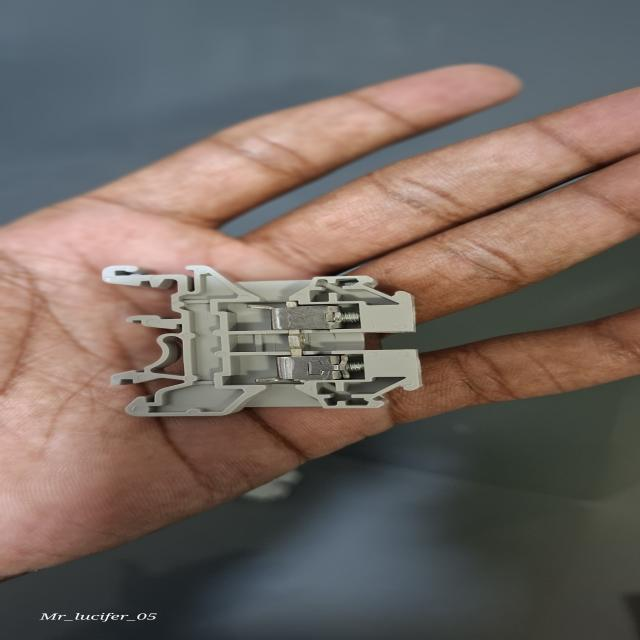Pass: (102, 263, 430, 416)
